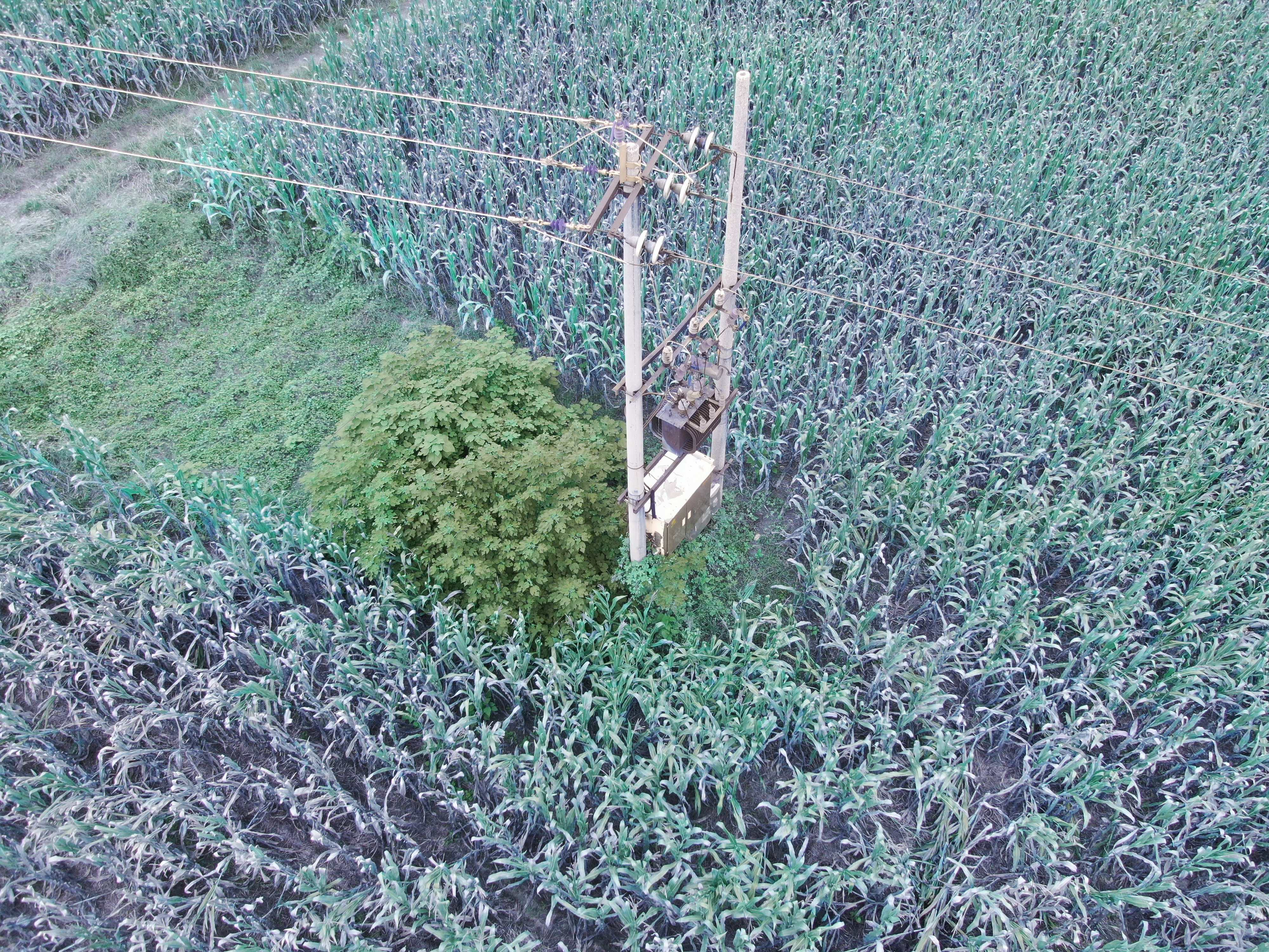severe_soiling_no_discharge_whole: (687, 315, 702, 339), (660, 344, 674, 368), (713, 287, 726, 310)
